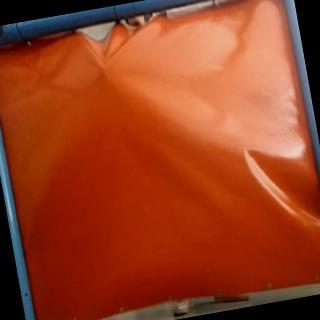Hit-hRxx: (94, 60, 111, 78)
